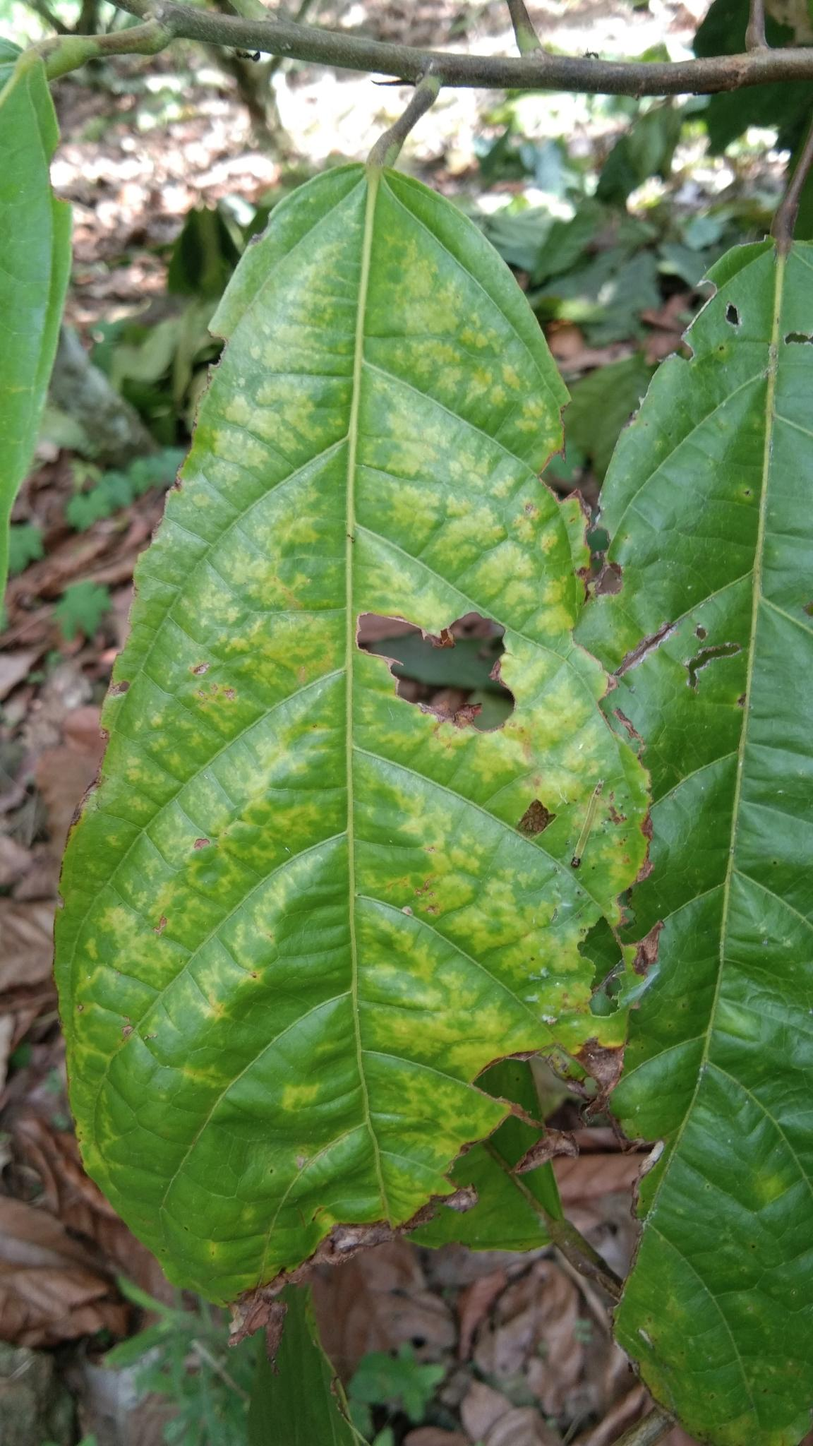Fosforo: (52, 153, 657, 1310)
